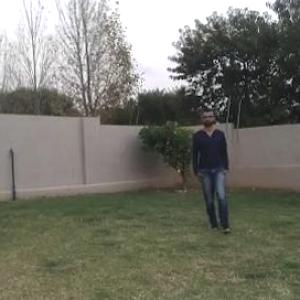follow: (198, 110, 228, 230)
